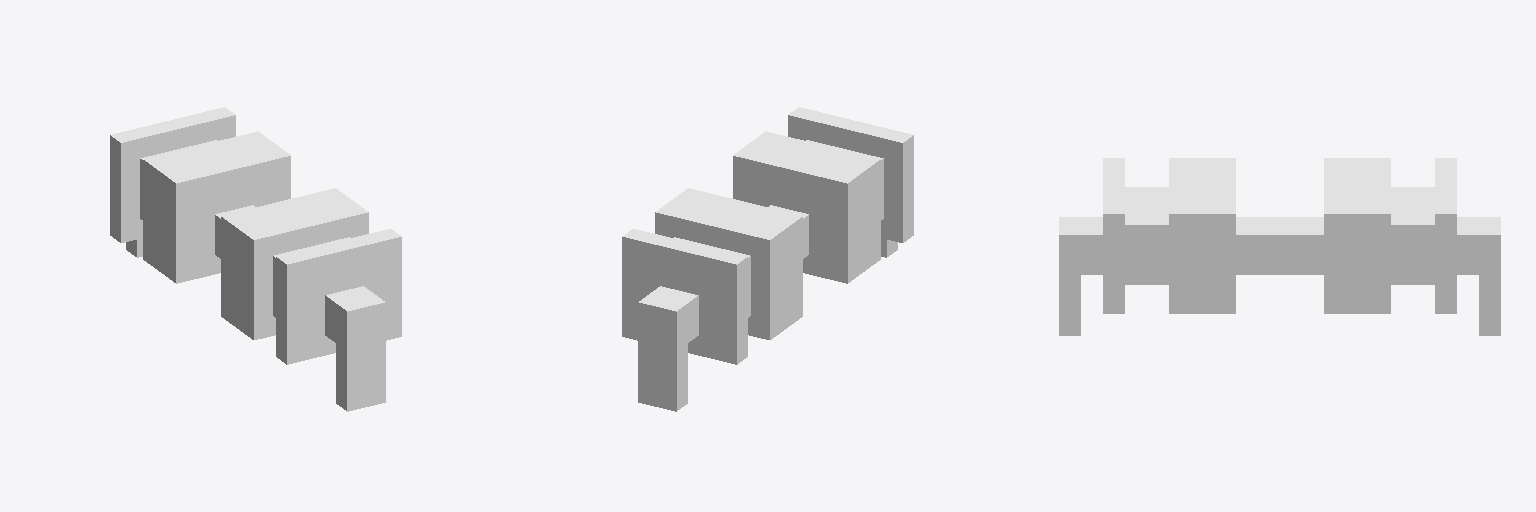
File: rez4.obj
The picture shows the model from 3 angles: view 1: azimuth 30°, elevation 25°; view 2: azimuth 150°, elevation 25°; view 3: azimuth 270°, elevation 25°; orthographic projection.
Parts seen in each view (by area): view 1: object 1; view 2: object 1; view 3: object 1.
Part boxes in pixels (x1,y1,x2,y2): object 1: (110, 107, 401, 411); object 1: (622, 107, 913, 411); object 1: (1059, 158, 1500, 335).
Bounding box in the file's own units: 0.6 × 0.7 × 2.